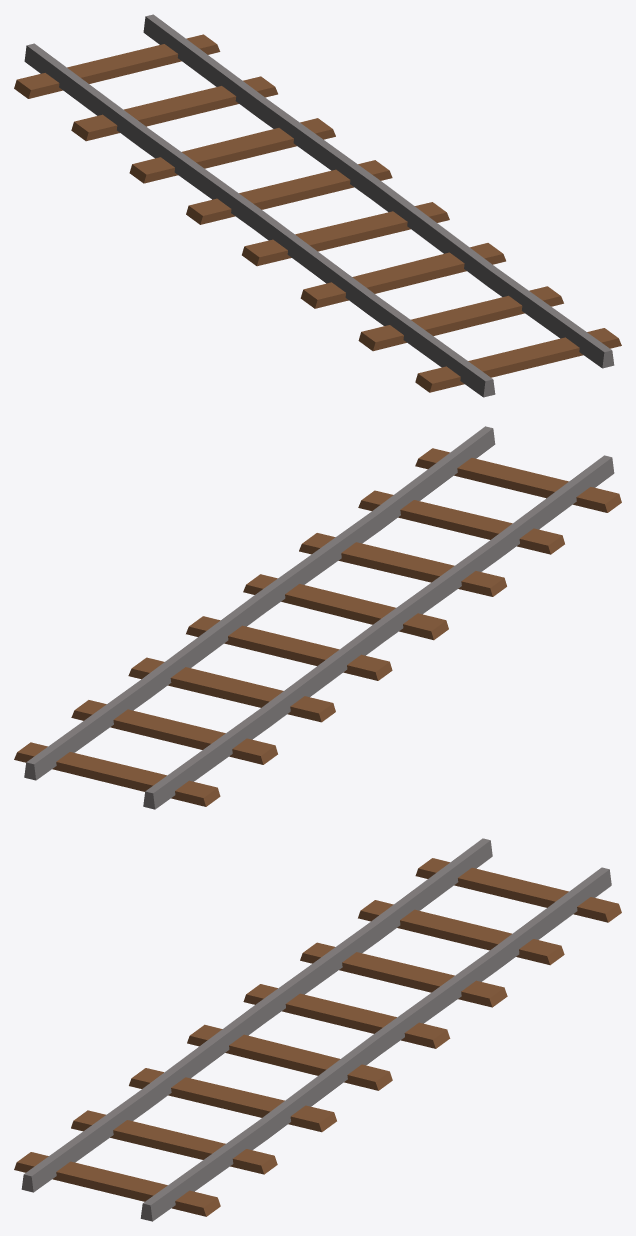
File: rail-straight.glb
3 renders of one model, top to bottom at view 1: azimuth 30°, elevation 25°; view 2: azimuth 150°, elevation 25°; view 3: azimuth 330°, elevation 25°, orthographic.
Parts seen in each view (by area): view 1: rail-straight; view 2: rail-straight; view 3: rail-straight.
Boxes of the visible parts, bbox=[...] form: rail-straight: bbox=[14, 14, 621, 397]; rail-straight: bbox=[14, 426, 621, 809]; rail-straight: bbox=[14, 838, 621, 1221].
Size of the model in its own units: 2.42 by 0.2458 by 10.
1 material, 1 textured.
